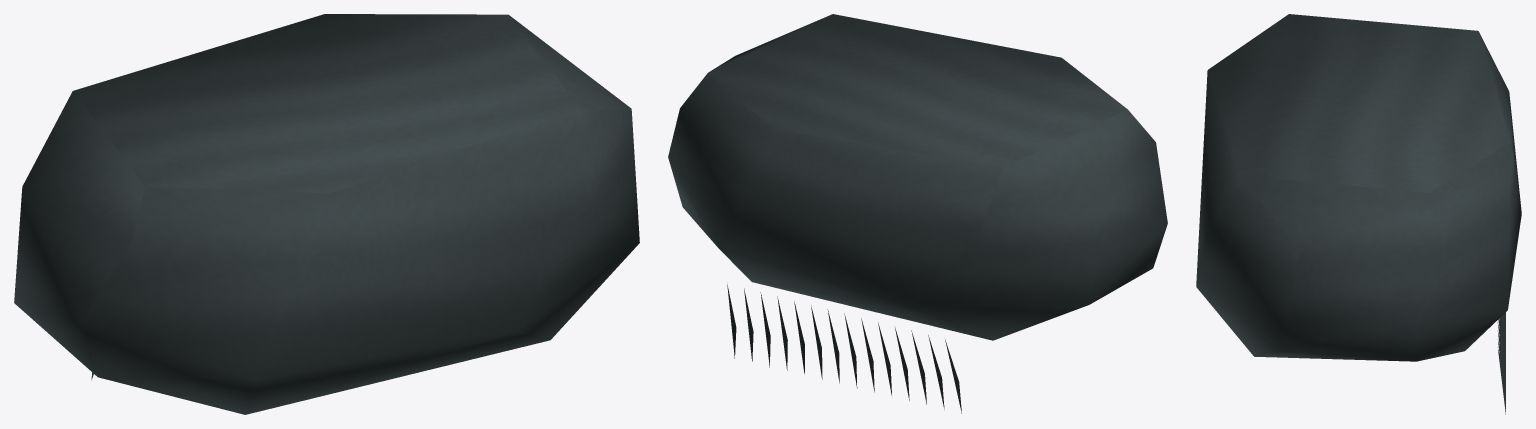
Rendered from hips_lod2.glb.
3 renders of one model, left to right at view 1: azimuth 30°, elevation 25°; view 2: azimuth 150°, elevation 25°; view 3: azimuth 270°, elevation 25°, orthographic. The views are drawn at different scales.
Visible parts, largest first — view 1: dormin_hips_LOD2; view 2: dormin_hips_LOD2; view 3: dormin_hips_LOD2.
Part boxes in pixels (box(x1,y1,x2,y2)): dormin_hips_LOD2: box(14, 14, 639, 414); dormin_hips_LOD2: box(668, 14, 1167, 413); dormin_hips_LOD2: box(1196, 14, 1521, 414).
Bounding box in the file's own units: 3.99 × 2.11 × 2.44.
Materials: 1 (1 with a texture image).
